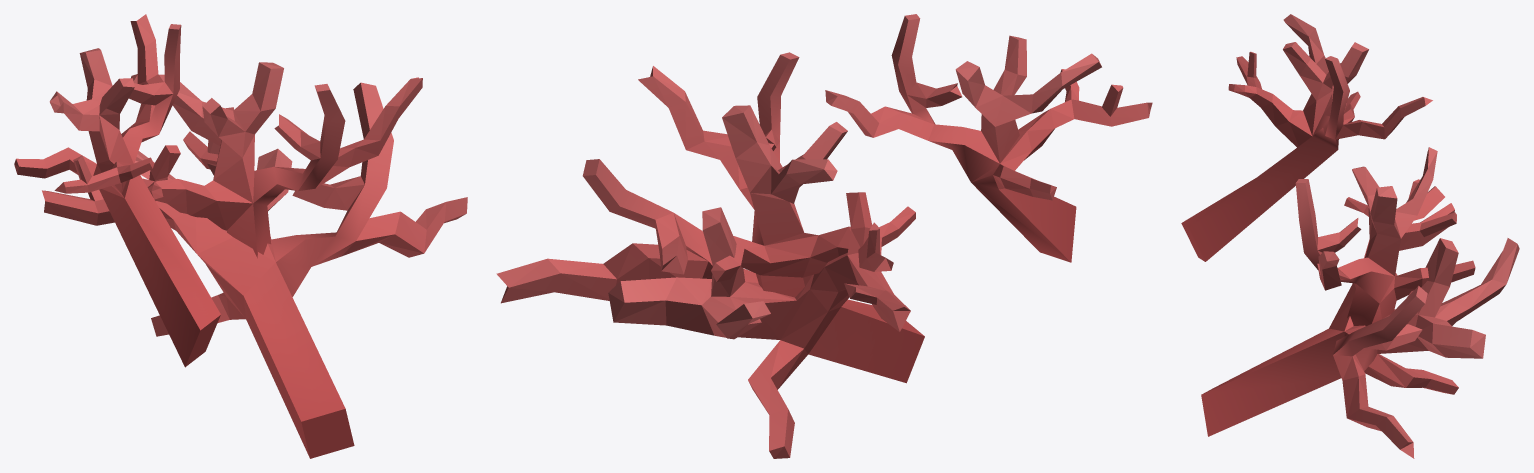
Rendered from Coral_05.FBX.
3 renders of one model, left to right at view 1: azimuth 30°, elevation 25°; view 2: azimuth 150°, elevation 25°; view 3: azimuth 270°, elevation 25°, orthographic. The views are drawn at different scales.
Visible parts, largest first — view 1: Coral_05; view 2: Coral_05; view 3: Coral_05.
Boxes of the visible parts, left/top/right/bottom form: Coral_05: left=14, top=14, right=467, bottom=458; Coral_05: left=496, top=14, right=1152, bottom=458; Coral_05: left=1181, top=14, right=1519, bottom=458.
Bounding box in the file's own units: 7 × 5.3 × 4.75.
